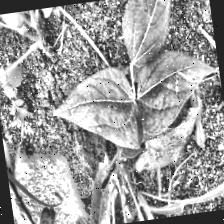ALS: (128, 8, 217, 83), (47, 9, 129, 73), (9, 166, 118, 205), (0, 41, 47, 93)
